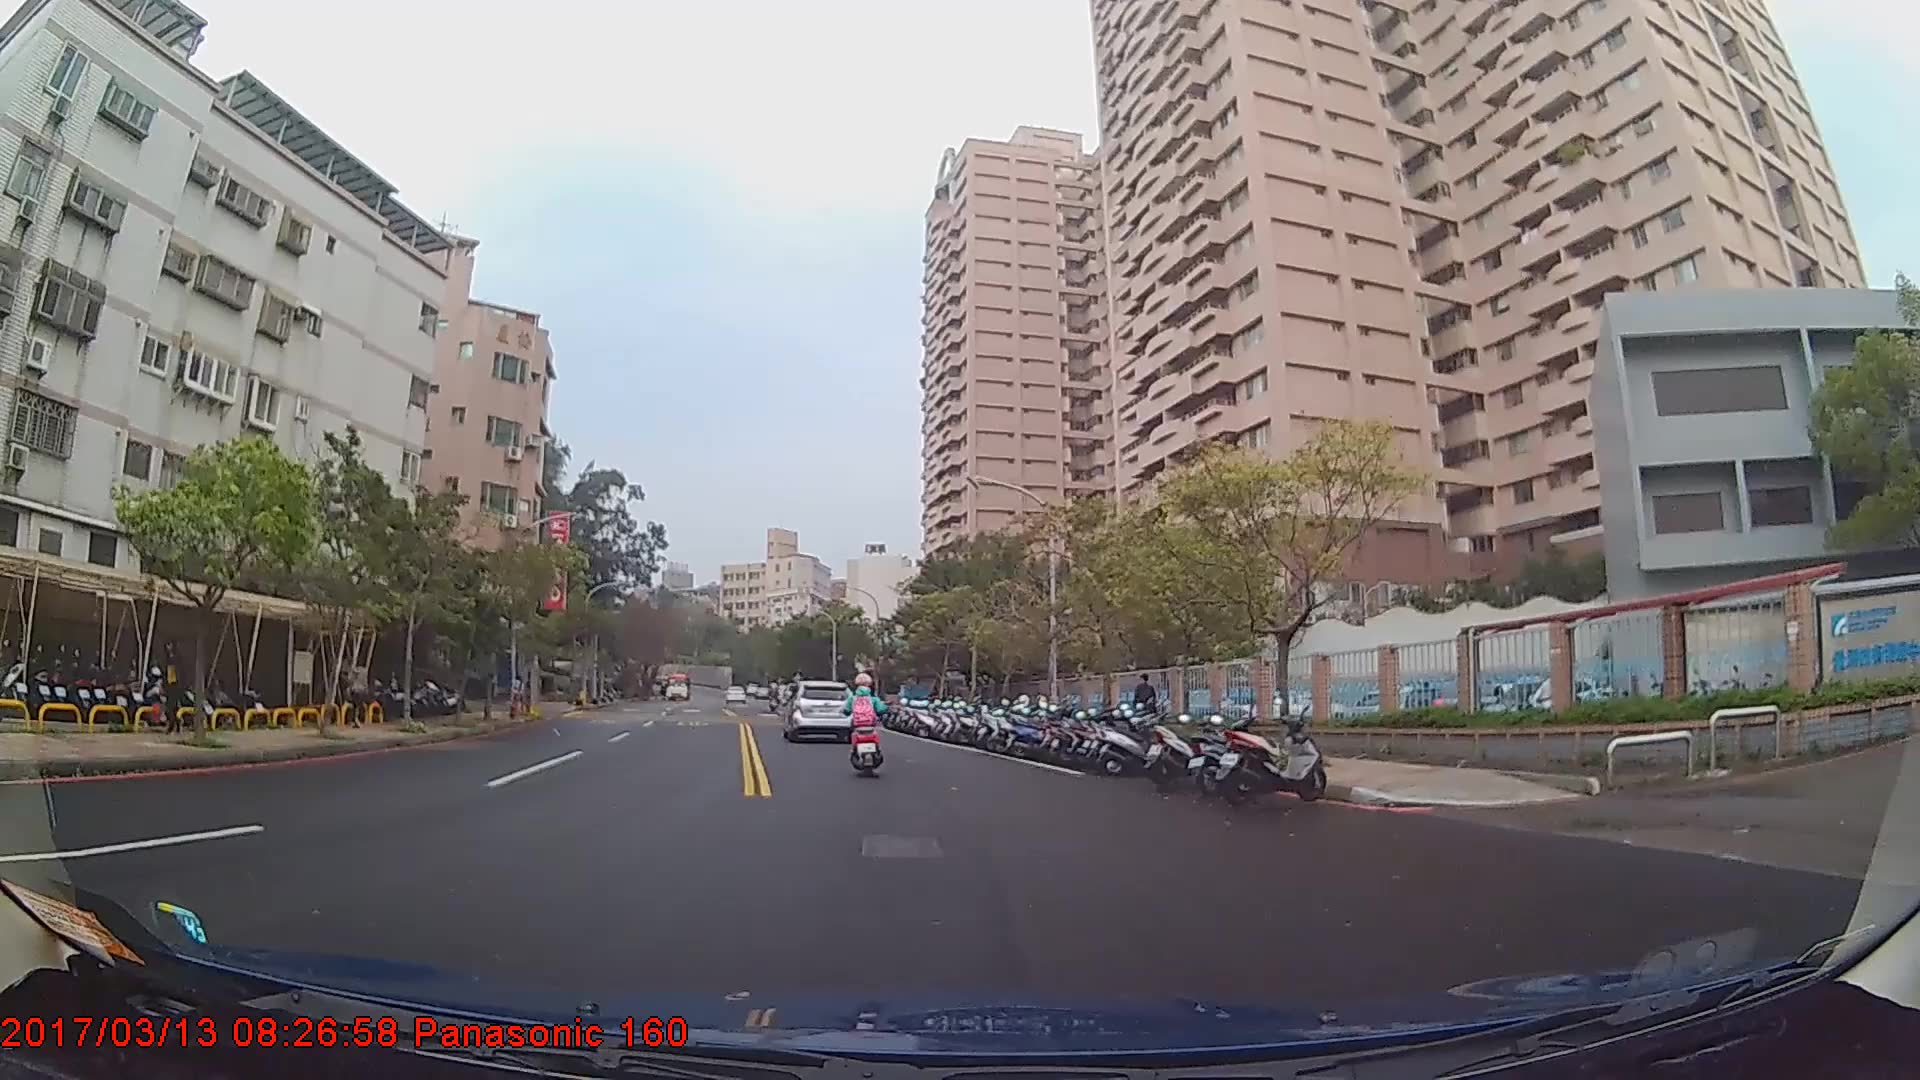pedestrian: (152, 634, 191, 734), (344, 654, 370, 730), (1133, 672, 1161, 741)
rider: (847, 668, 887, 769)
vehicle: (782, 677, 854, 742), (661, 669, 692, 697)
